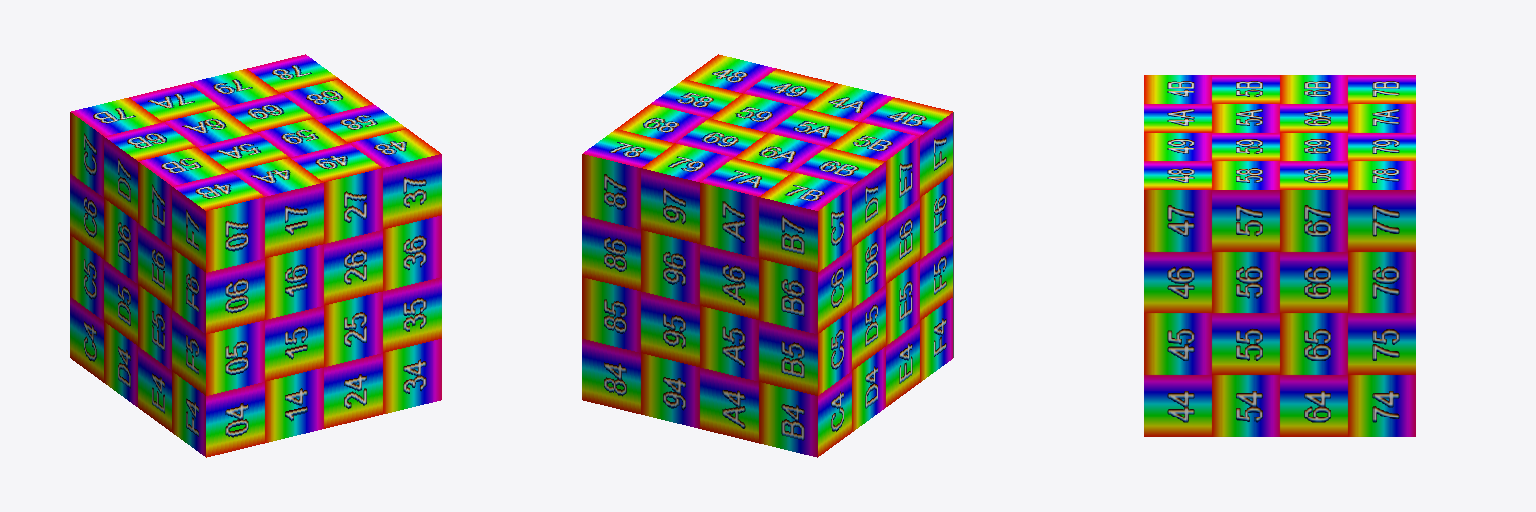
3 renders of one model, left to right at view 1: azimuth 30°, elevation 25°; view 2: azimuth 150°, elevation 25°; view 3: azimuth 270°, elevation 25°, orthographic.
Parts seen in each view (by area): view 1: Cube; view 2: Cube; view 3: Cube.
Boxes of the visible parts, x1,y1,x2,y2 form: Cube: [70, 54, 441, 457]; Cube: [582, 54, 953, 457]; Cube: [1144, 75, 1415, 436].
Size of the model in its own units: 2 by 2 by 2.
Materials: 1 (1 with a texture image).